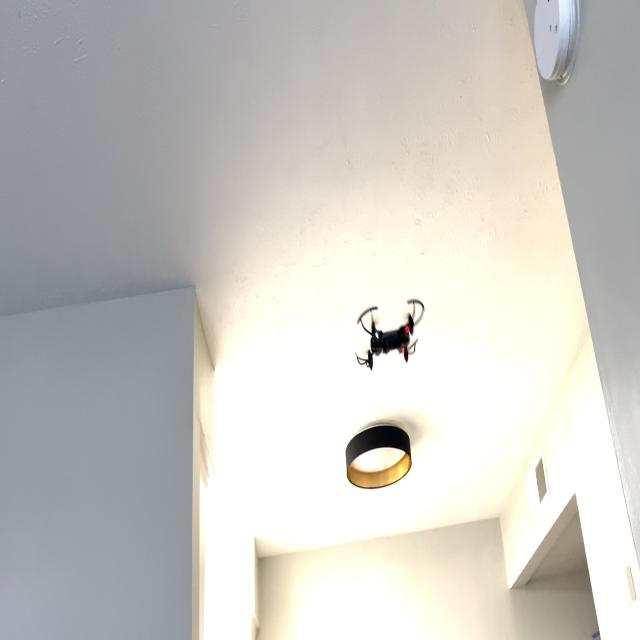drone: (350, 280, 434, 386)
